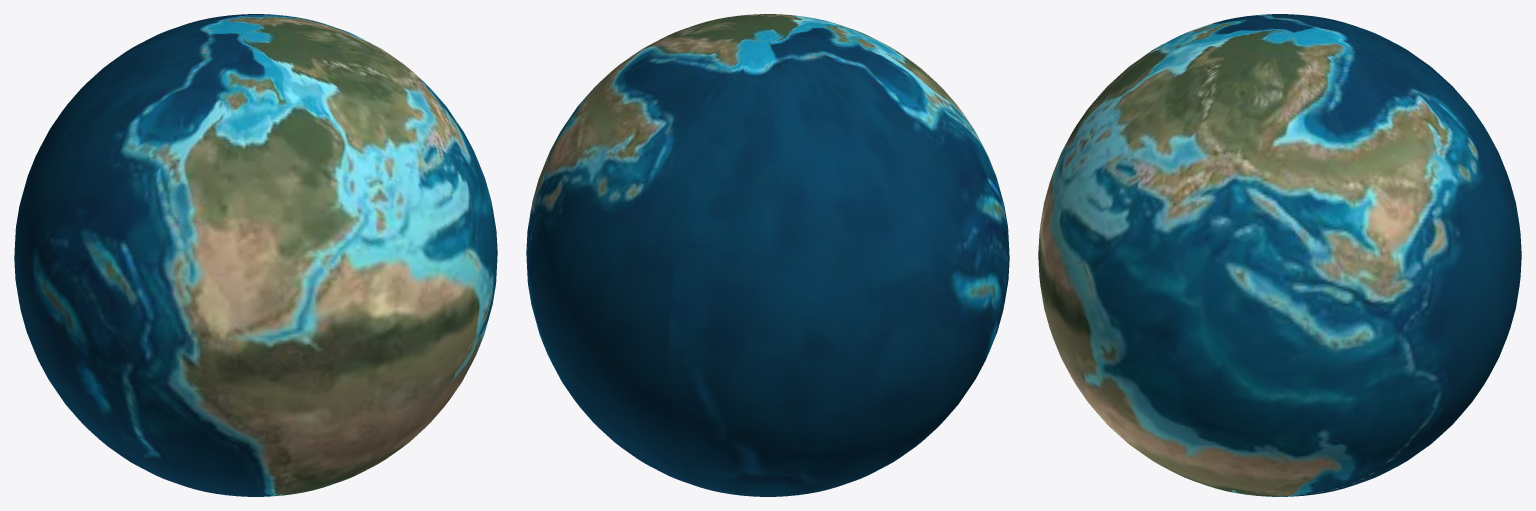
File: paleo.opt.glb
3 views of the same model, side by side, from view 1: azimuth 30°, elevation 25°; view 2: azimuth 150°, elevation 25°; view 3: azimuth 270°, elevation 25° (orthographic).
Visible parts, largest first — view 1: frame_0; view 2: frame_0; view 3: frame_0.
Boxes of the visible parts, bbox=[...] form: frame_0: bbox=[14, 14, 497, 496]; frame_0: bbox=[526, 14, 1009, 496]; frame_0: bbox=[1038, 14, 1521, 496].
Size of the model in its own units: 2 by 2 by 2.
Materials: 11 (11 with a texture image).
